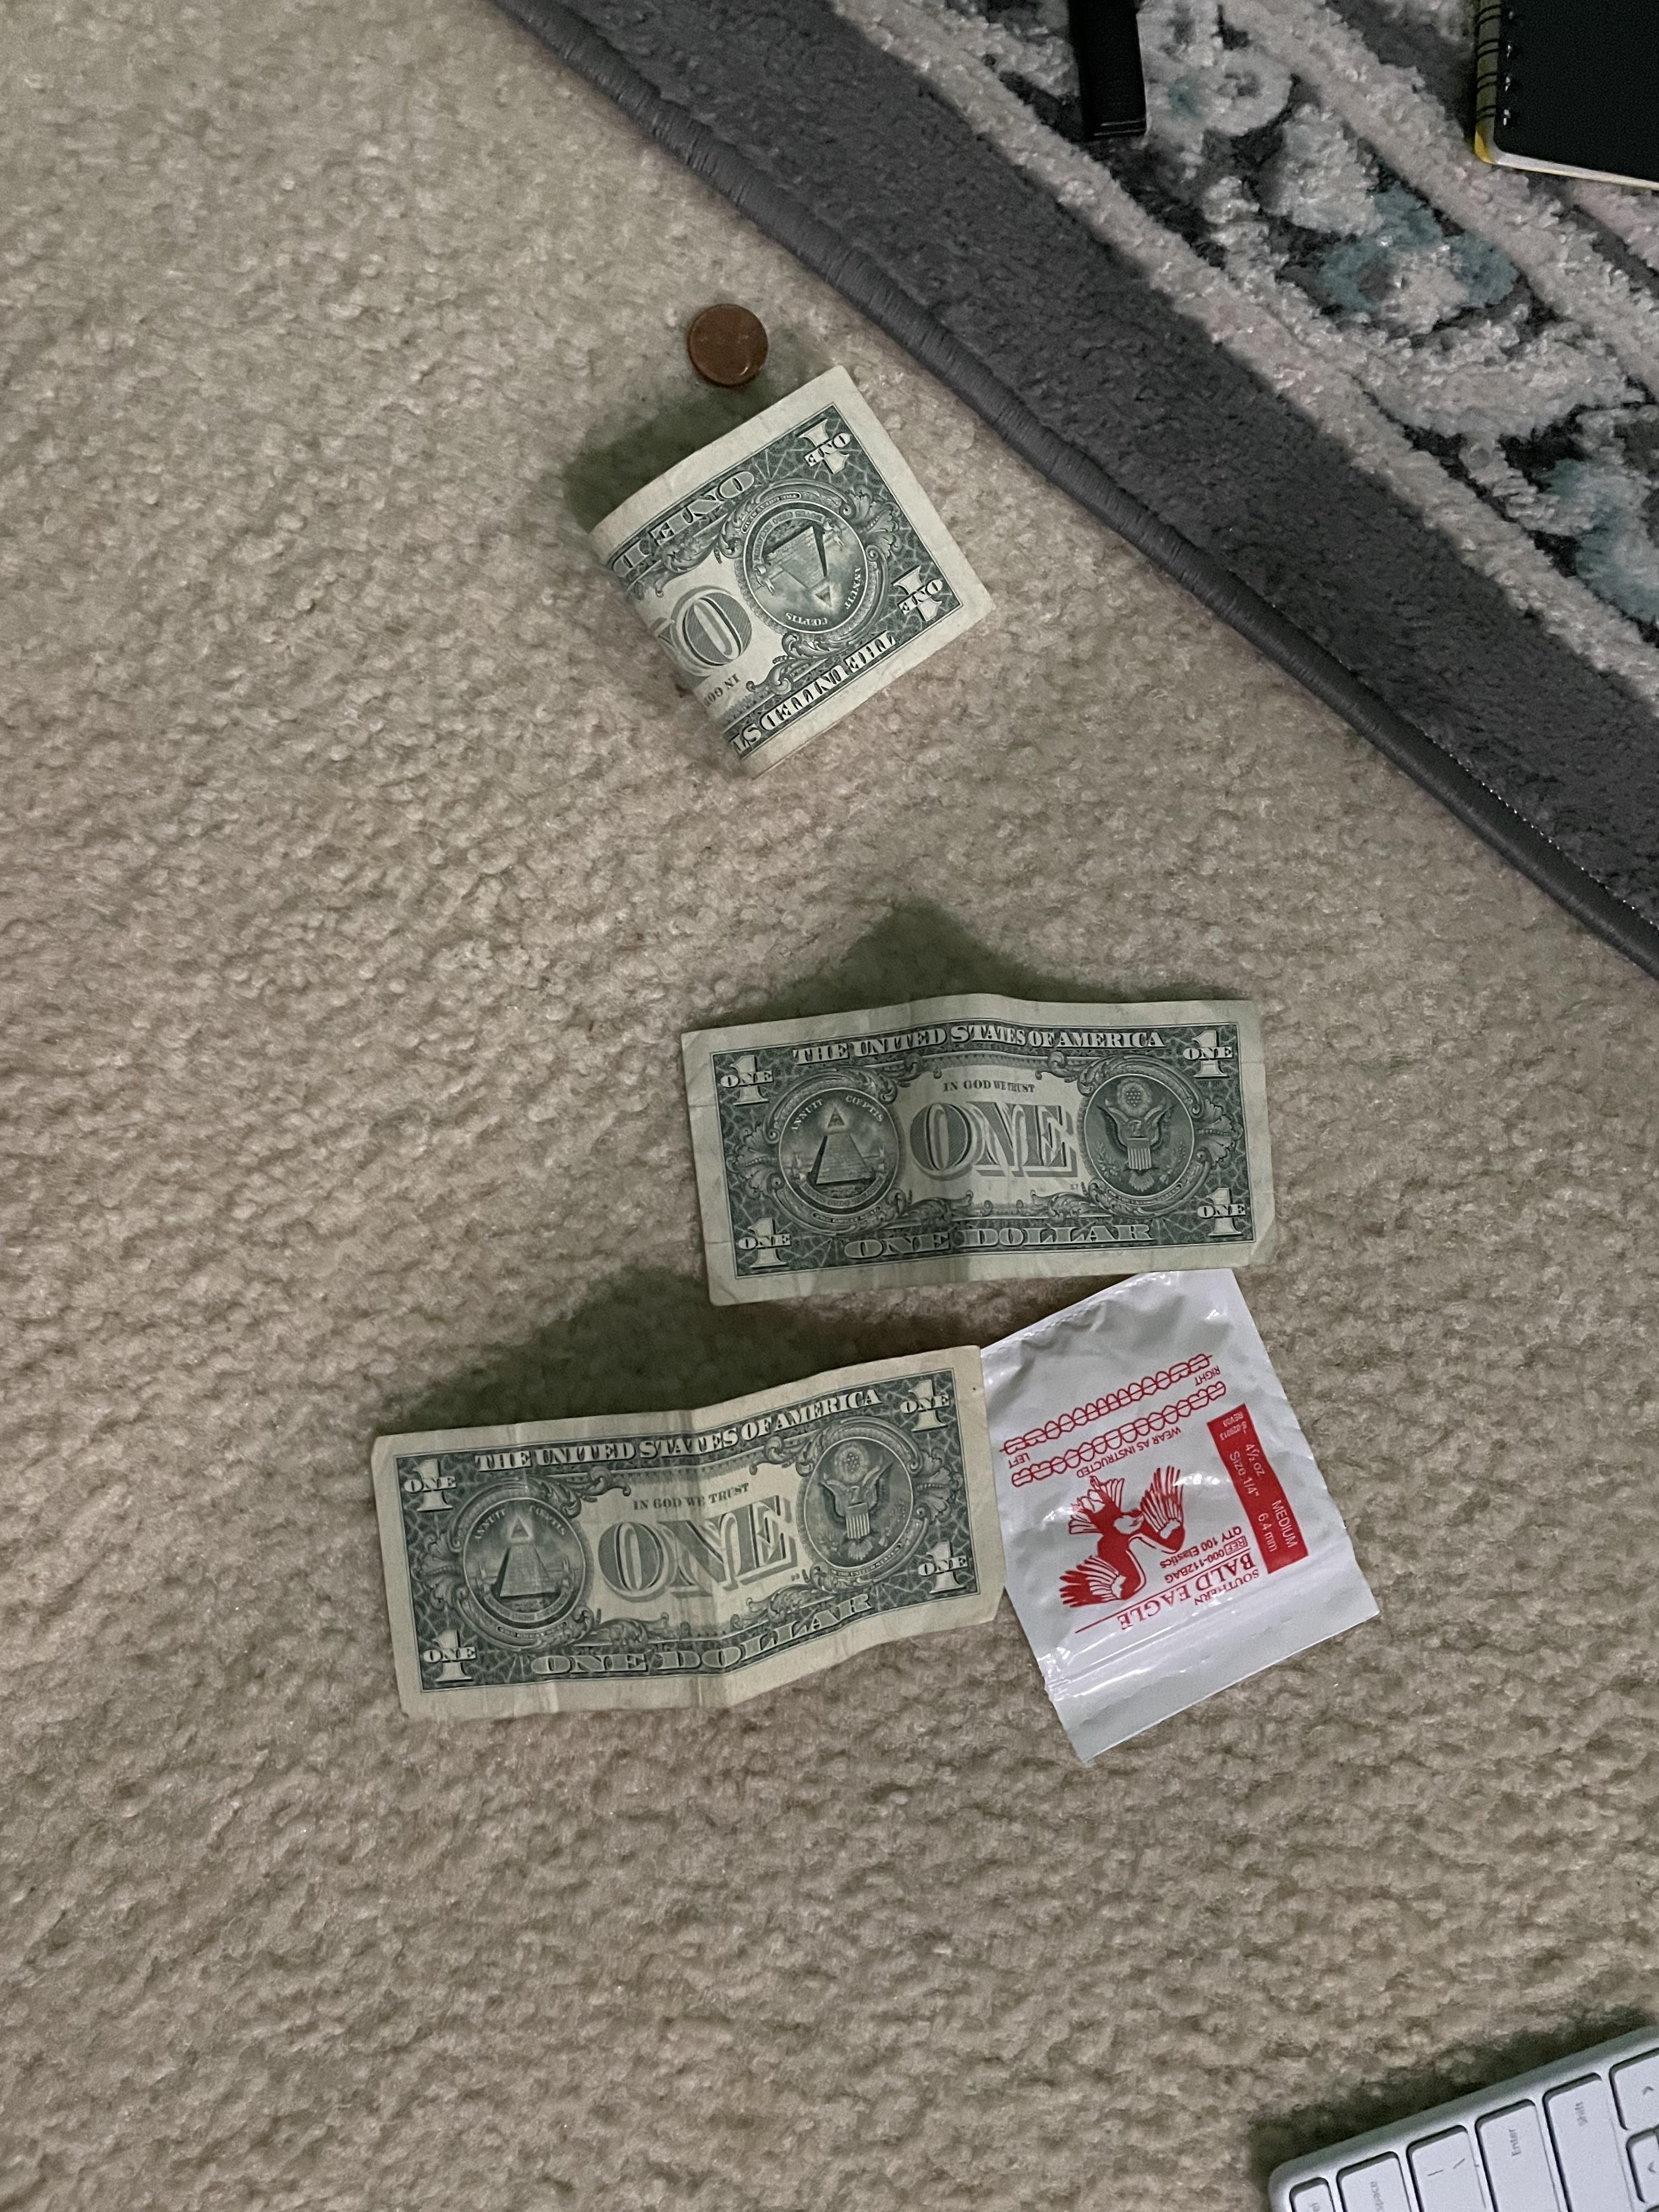OneBill: (338, 1338, 1016, 1726), (657, 981, 1290, 1320), (575, 348, 1007, 786)
Penny: (673, 291, 775, 392)
